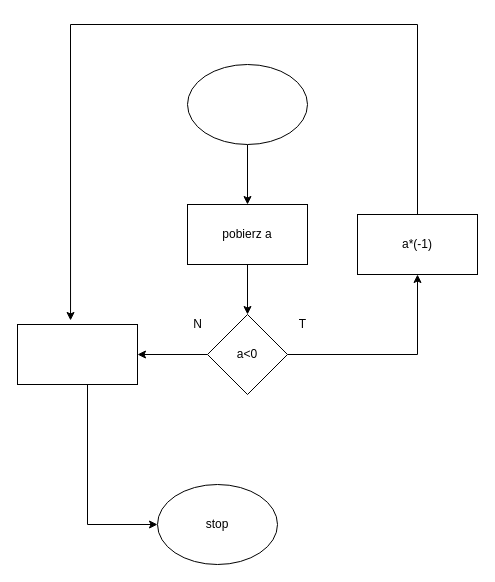
Some shapes in this 495 by 582 pixel diagram are drawn without their labels. Each missing label, with the centre of its shape:
start: [247,104]
wypisz a: [77,354]
